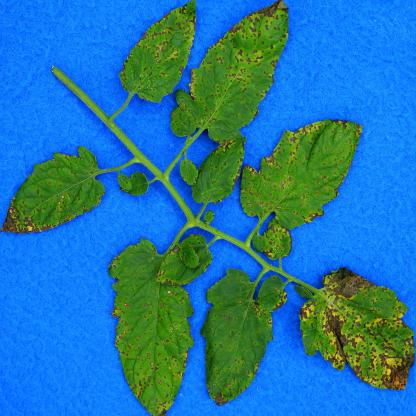tomato septoria leaf spot: (107, 213, 200, 416), (294, 258, 416, 401), (177, 1, 290, 152), (194, 267, 300, 414), (239, 115, 362, 231), (5, 139, 108, 246), (116, 1, 201, 110), (192, 137, 249, 208), (154, 232, 222, 288)
